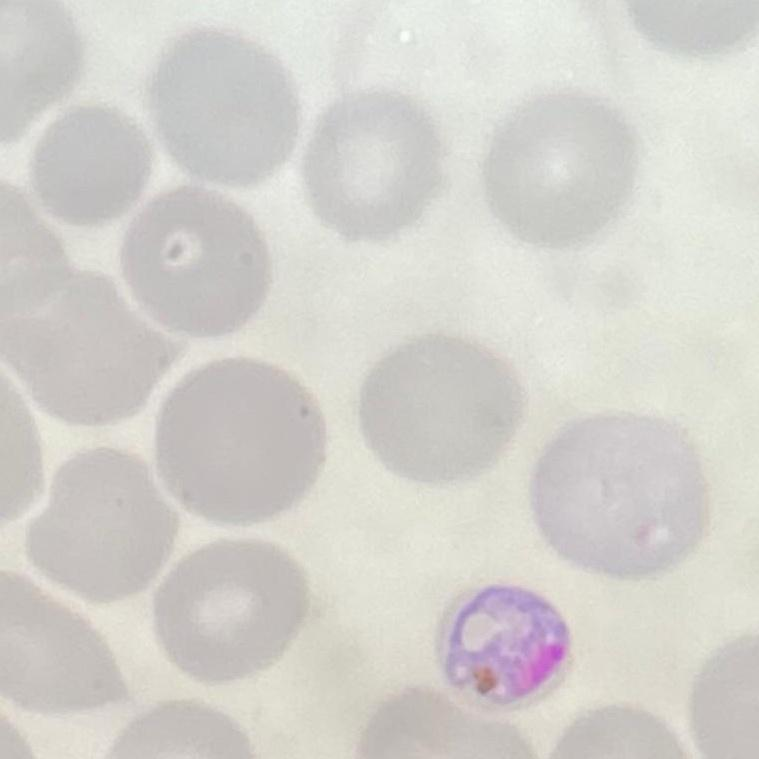Infected: (436, 573, 575, 708)
Uninfected: (528, 417, 707, 580), (152, 365, 321, 529), (0, 273, 180, 419), (294, 85, 459, 242), (360, 333, 523, 482), (116, 193, 283, 334), (150, 27, 300, 181), (480, 93, 636, 241), (150, 539, 301, 687), (28, 449, 173, 600), (0, 562, 128, 717), (36, 105, 147, 224)
